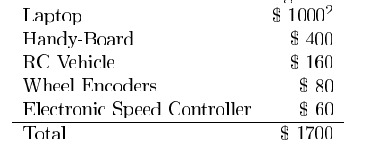column: (11, 4, 261, 146), (262, 3, 353, 146)
row: (11, 122, 355, 146), (11, 5, 353, 29), (11, 100, 352, 124), (10, 76, 353, 99), (12, 31, 353, 54), (11, 56, 353, 76)
